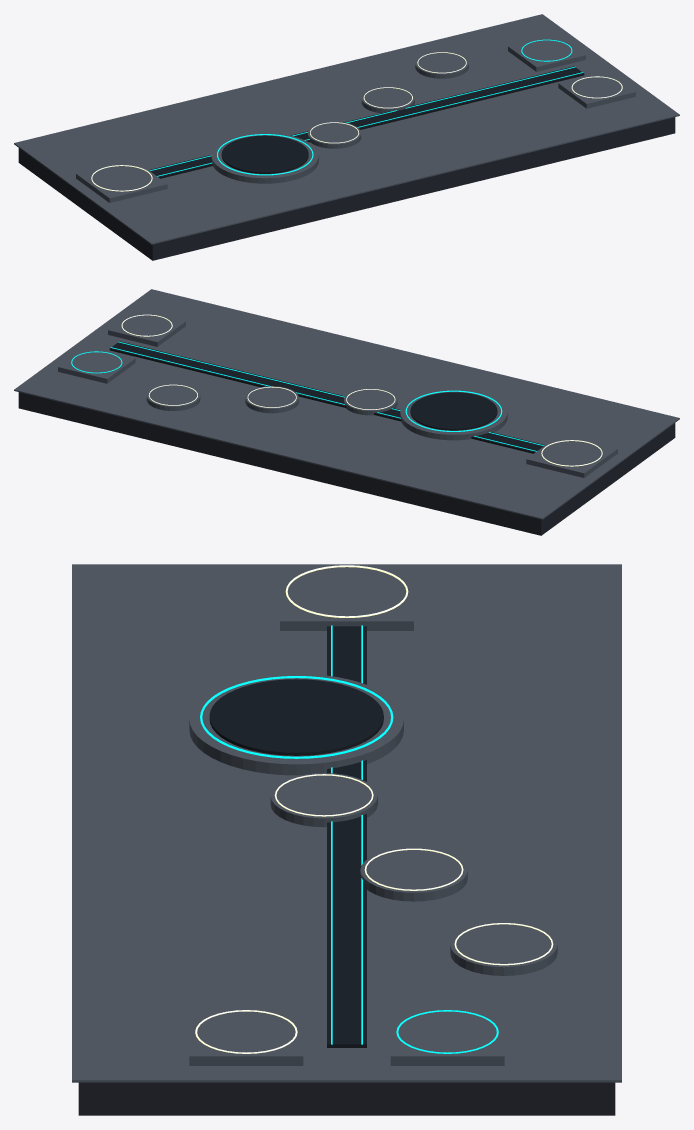
Rendered from quantum_chassis.glb.
3 renders of one model, top to bottom at view 1: azimuth 30°, elevation 25°; view 2: azimuth 150°, elevation 25°; view 3: azimuth 270°, elevation 25°, orthographic. The views are drawn at different scales.
Parts seen in each view (by area): view 1: Chassis_Perimeter_Rail, Chassis_Main_Slab, Chassis_Optical_Trench, Chassis_Inner_Well, Chassis_Origin_Dock, Chassis_Dest_Bay_2, Chassis_Escrow_Well, Chassis_Dest_Bay_1, Chassis_Relay_Bay_3, Chassis_Relay_Bay_1, Chassis_Relay_Bay_2, Chassis_Fiber_Rail_- (+2 smaller); view 2: Chassis_Perimeter_Rail, Chassis_Main_Slab, Chassis_Optical_Trench, Chassis_Inner_Well, Chassis_Origin_Dock, Chassis_Dest_Bay_1, Chassis_Dest_Bay_2, Chassis_Escrow_Well, Chassis_Relay_Bay_2, Chassis_Relay_Bay_3, Chassis_Relay_Bay_1, Chassis_Fiber_Rail_- (+2 smaller); view 3: Chassis_Perimeter_Rail, Chassis_Main_Slab, Chassis_Optical_Trench, Chassis_Inner_Well, Chassis_Origin_Dock, Chassis_Dest_Bay_1, Chassis_Dest_Bay_2, Chassis_Escrow_Well, Chassis_Relay_Bay_3, Chassis_Relay_Bay_2, Chassis_Relay_Bay_1, Chassis_Well_Luminous_Ring.
Part boxes in pixels (x1,y1,x2,y2): Chassis_Perimeter_Rail: (14, 14, 679, 244); Chassis_Main_Slab: (18, 117, 675, 260); Chassis_Optical_Trench: (149, 66, 584, 178); Chassis_Inner_Well: (221, 135, 308, 173); Chassis_Origin_Dock: (76, 160, 167, 202); Chassis_Dest_Bay_2: (558, 71, 635, 108); Chassis_Escrow_Well: (211, 133, 318, 183); Chassis_Dest_Bay_1: (508, 34, 585, 71); Chassis_Relay_Bay_3: (415, 51, 468, 78); Chassis_Relay_Bay_1: (307, 121, 361, 148); Chassis_Relay_Bay_2: (361, 86, 414, 113); Chassis_Fiber_Rail_-: (149, 66, 575, 170); Chassis_Perimeter_Rail: (14, 289, 679, 519); Chassis_Main_Slab: (18, 392, 675, 535); Chassis_Optical_Trench: (109, 341, 544, 453); Chassis_Inner_Well: (410, 392, 497, 430); Chassis_Origin_Dock: (526, 435, 617, 477); Chassis_Dest_Bay_1: (58, 346, 135, 383); Chassis_Dest_Bay_2: (108, 309, 185, 346); Chassis_Escrow_Well: (400, 389, 507, 440); Chassis_Relay_Bay_2: (245, 386, 298, 413); Chassis_Relay_Bay_3: (146, 384, 200, 410); Chassis_Relay_Bay_1: (344, 388, 397, 415); Chassis_Fiber_Rail_-: (110, 347, 536, 451); Chassis_Perimeter_Rail: (72, 564, 621, 1082); Chassis_Main_Slab: (78, 1082, 615, 1115); Chassis_Optical_Trench: (327, 626, 366, 1047); Chassis_Inner_Well: (209, 679, 383, 755); Chassis_Origin_Dock: (280, 564, 413, 630); Chassis_Dest_Bay_1: (390, 1008, 504, 1065); Chassis_Dest_Bay_2: (189, 1008, 303, 1065); Chassis_Escrow_Well: (189, 673, 403, 775); Chassis_Relay_Bay_3: (450, 922, 557, 975); Chassis_Relay_Bay_2: (360, 847, 467, 901); Chassis_Relay_Bay_1: (270, 773, 377, 827); Chassis_Well_Luminous_Ring: (200, 676, 393, 758).
Size of the model in its own units: 36.4 by 1.72 by 16.4.
